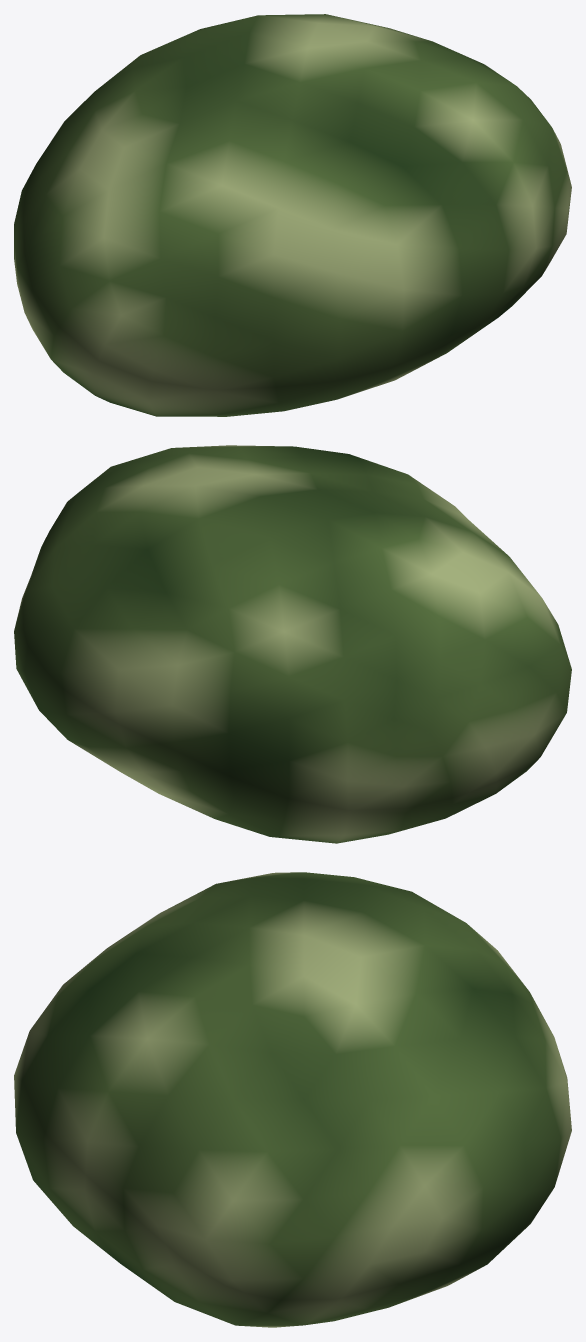
File: serpentine.glb
3 views of the same model, one above another, from view 1: azimuth 30°, elevation 25°; view 2: azimuth 150°, elevation 25°; view 3: azimuth 270°, elevation 25° (orthographic). The views are drawn at different scales.
Parts seen in each view (by area): view 1: serpentine; view 2: serpentine; view 3: serpentine.
Boxes of the visible parts, x1,y1,x2,y2 form: serpentine: (14, 14, 571, 416); serpentine: (14, 445, 571, 843); serpentine: (14, 872, 571, 1327).
Bounding box in the file's own units: 0.25 × 0.1503 × 0.2053.
